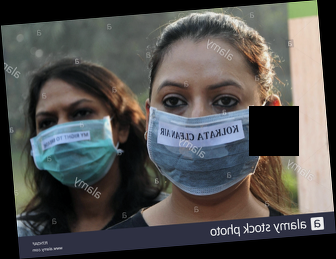with_mask: (146, 73, 266, 197), (31, 96, 117, 188)
